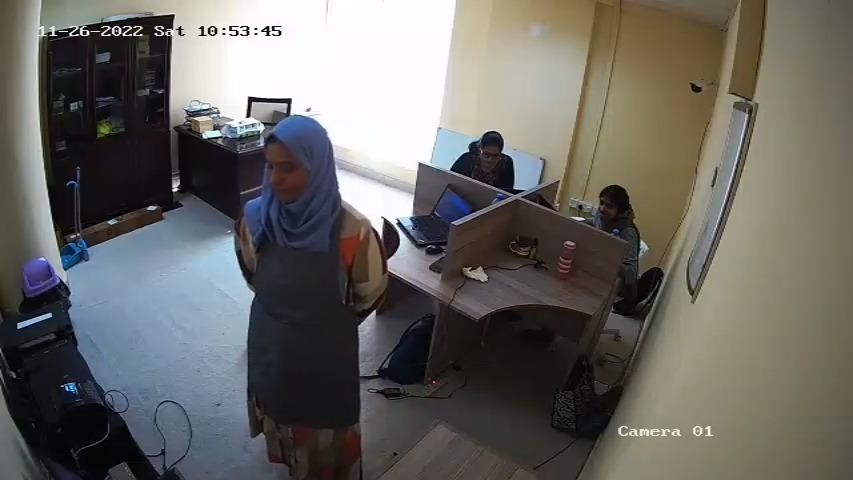apron: (242, 205, 363, 426)
